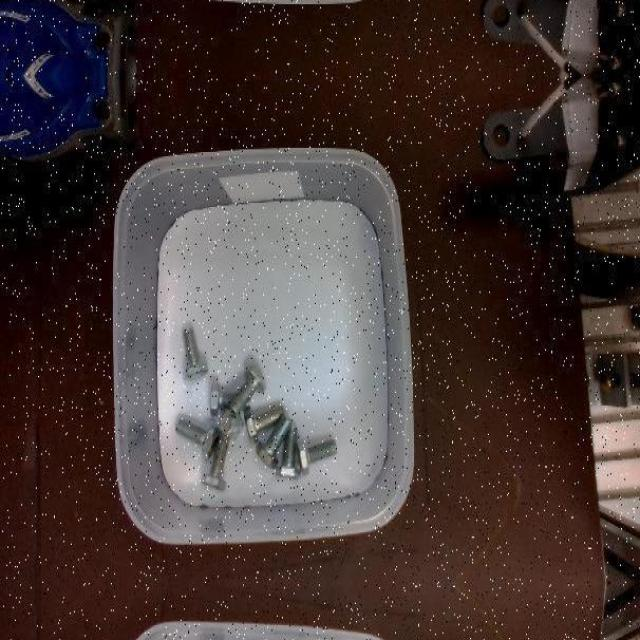screw: (229, 363, 267, 414), (175, 418, 220, 460), (254, 416, 290, 468), (202, 434, 229, 491), (245, 406, 285, 444), (297, 438, 338, 475), (275, 426, 303, 479), (183, 326, 209, 380)
